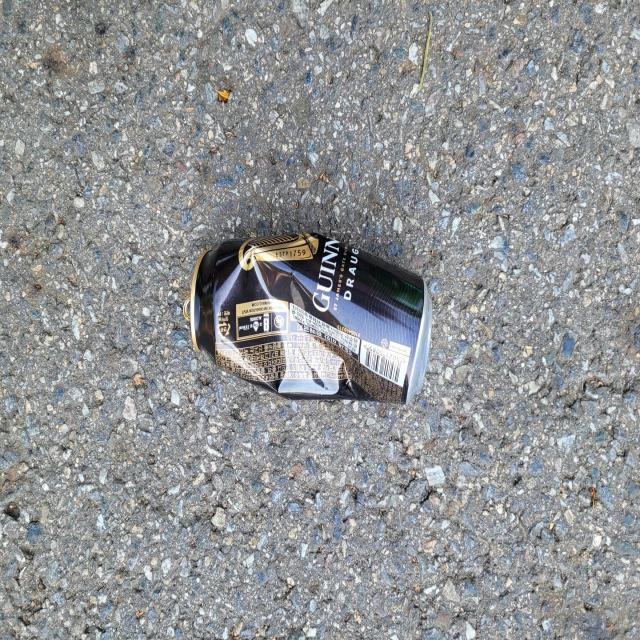can: (183, 233, 433, 403)
